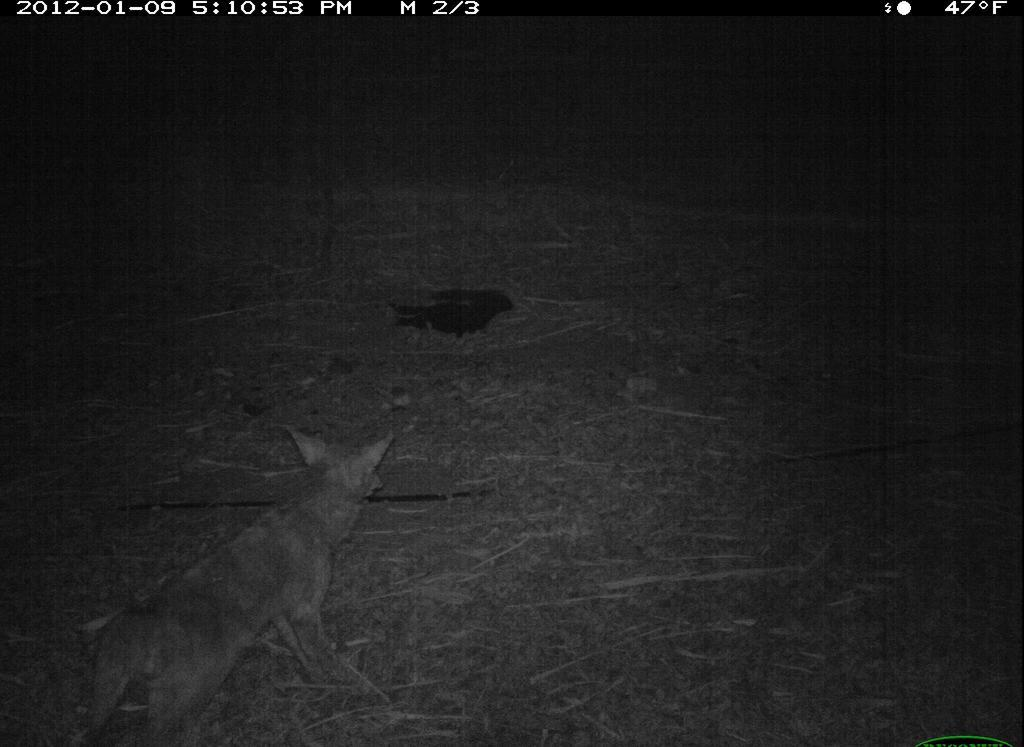coyote: (65, 416, 417, 747)
